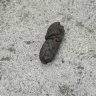Dog: (39, 22, 65, 64)
